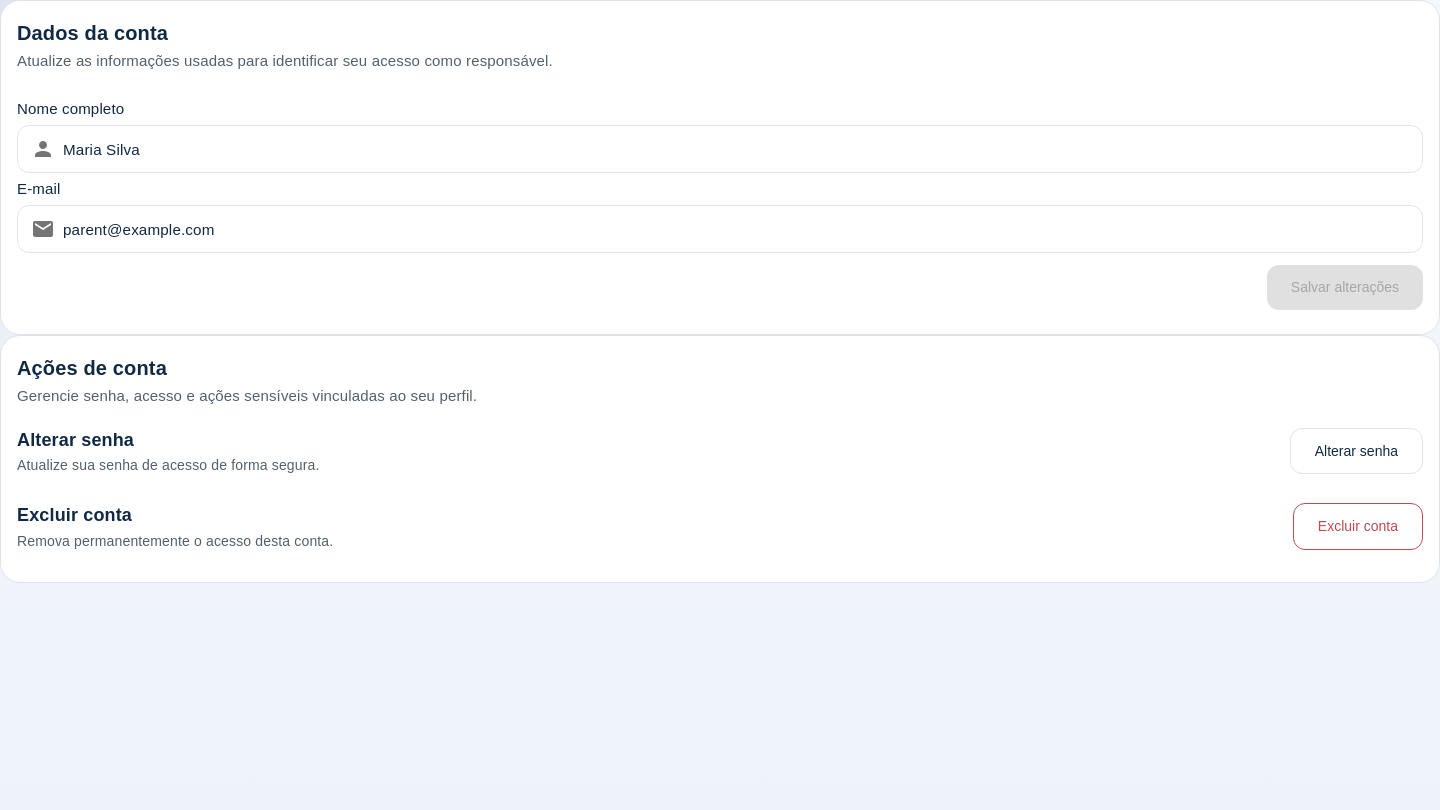
Test: AccountSettings disables save when name is cleared
Clear the field showing "Maria Silva" at (743, 149), box x1=63 y1=122 x2=1423 y2=176
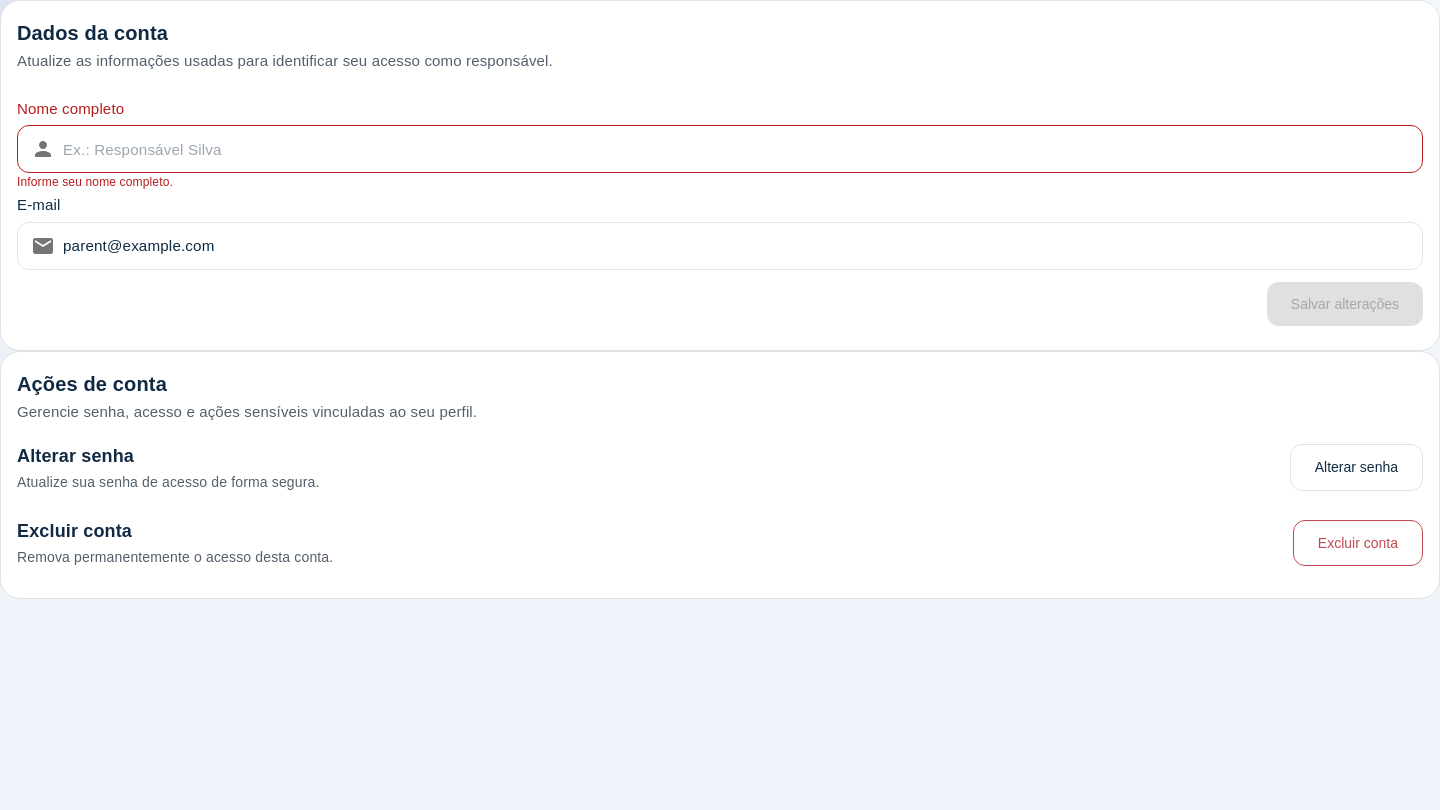
Expected: the button "Salvar alterações" is disabled, x1=1267 y1=282 x2=1423 y2=326
Now the text "Informe seu nome completo." is shown, box x1=17 y1=175 x2=173 y2=189
